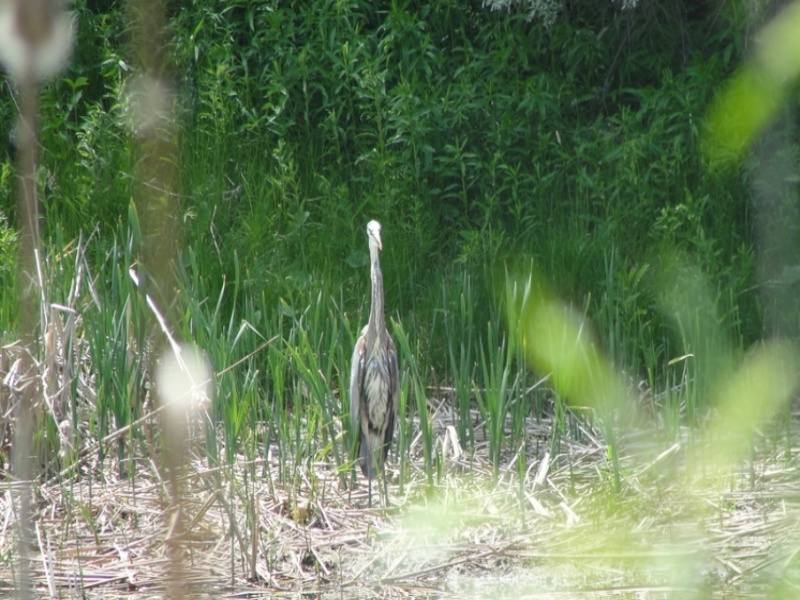heron: (348, 218, 398, 501)
